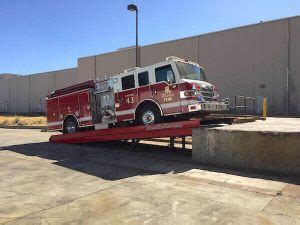Yard Ramp: (48, 95, 259, 145)
